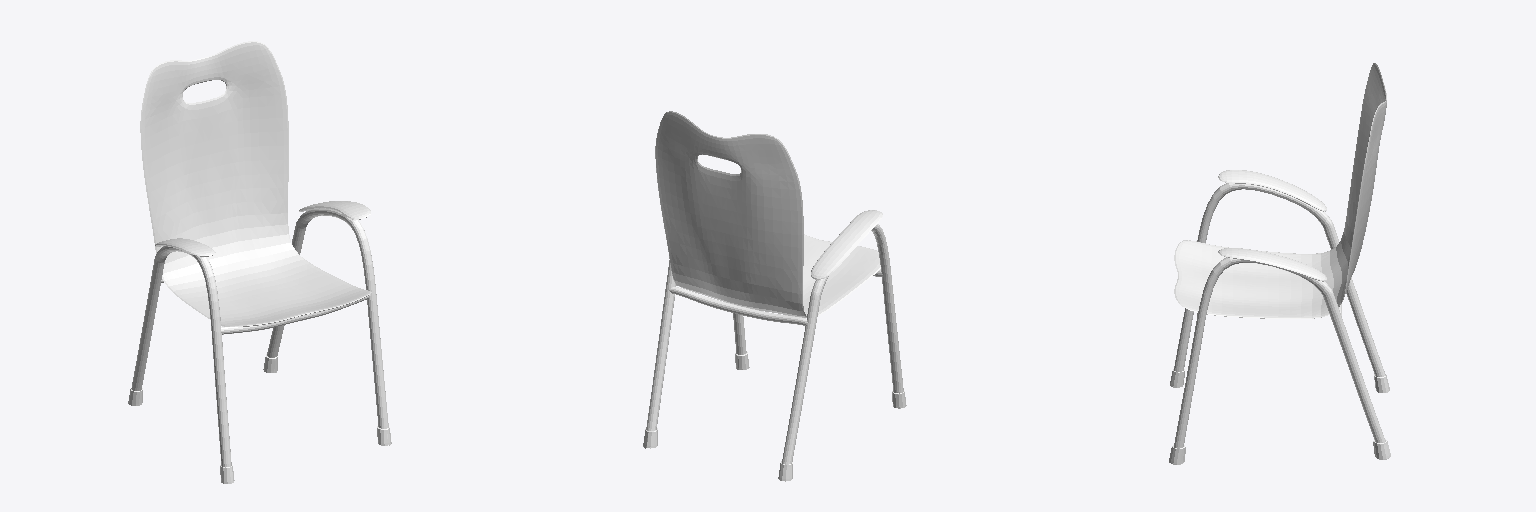
The model's file is office-chair.obj.
3 views of the same model, side by side, from view 1: azimuth 30°, elevation 25°; view 2: azimuth 150°, elevation 25°; view 3: azimuth 270°, elevation 25° (orthographic).
Parts seen in each view (by area): view 1: office-chair.001; view 2: office-chair.001; view 3: office-chair.001.
Part boxes in pixels (x1,y1,x2,y2): office-chair.001: (128, 41, 391, 483); office-chair.001: (643, 111, 906, 481); office-chair.001: (1169, 63, 1390, 464).
Bounding box in the file's own units: 0.9396 × 1.66 × 0.9915.